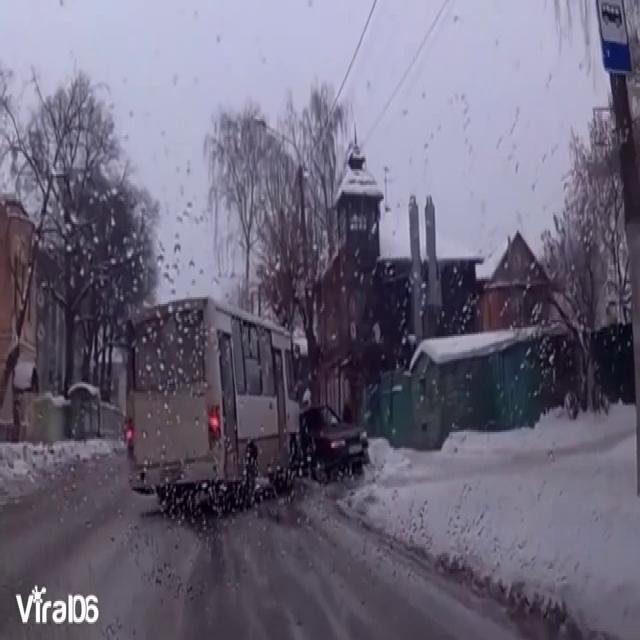moderate: (116, 280, 370, 510)
